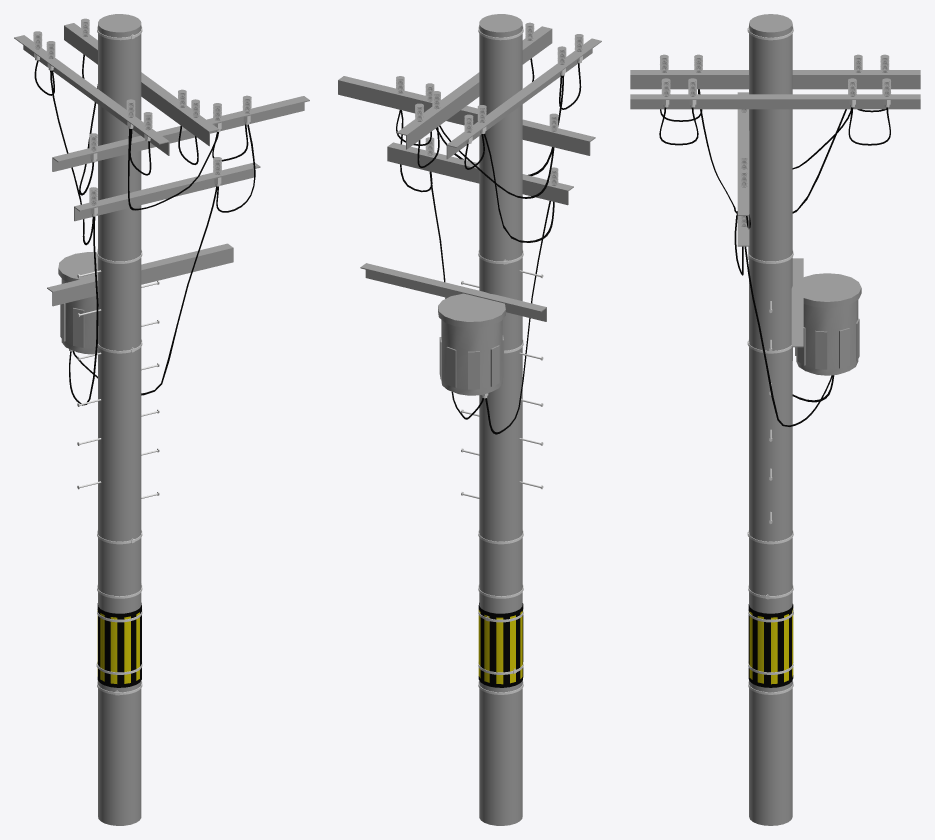
File: denchuu.fbx
3 views of the same model, side by side, from view 1: azimuth 30°, elevation 25°; view 2: azimuth 150°, elevation 25°; view 3: azimuth 270°, elevation 25° (orthographic).
Visible parts, largest first — view 1: pasted__pasted__pasted__pCylinder58; view 2: pasted__pasted__pasted__pCylinder58; view 3: pasted__pasted__pasted__pCylinder58.
Part boxes in pixels (x1=…): pasted__pasted__pasted__pCylinder58: x1=14, y1=14, x2=309, y2=825; pasted__pasted__pasted__pCylinder58: x1=338, y1=14, x2=601, y2=825; pasted__pasted__pasted__pCylinder58: x1=630, y1=14, x2=920, y2=825.
Size of the model in its own units: 6.87 by 20.69 by 6.87.
